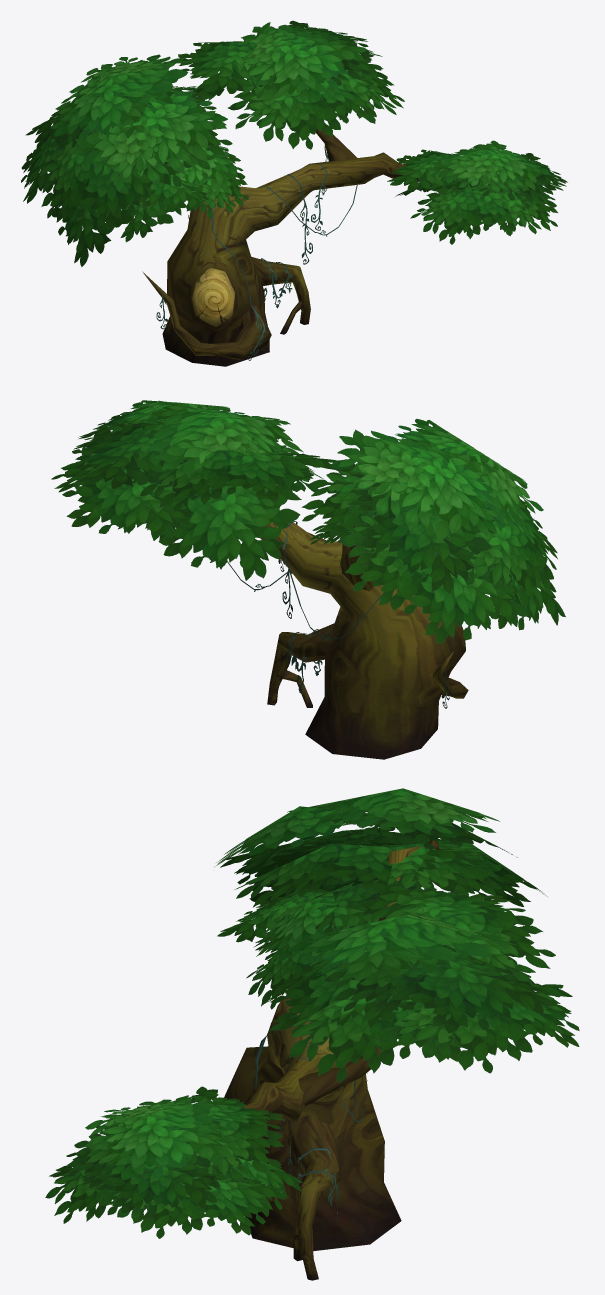
Rendered from tys_dashu_01.FBX.
3 views of the same model, one above another, from view 1: azimuth 30°, elevation 25°; view 2: azimuth 150°, elevation 25°; view 3: azimuth 270°, elevation 25° (orthographic). The views are drawn at different scales.
Visible parts, largest first — view 1: dashu_01; view 2: dashu_01; view 3: dashu_01.
Boxes of the visible parts, bbox=[...] form: dashu_01: bbox=[21, 20, 567, 366]; dashu_01: bbox=[51, 400, 565, 759]; dashu_01: bbox=[45, 788, 579, 1280].
Size of the model in its own units: 1014 by 547 by 735.
